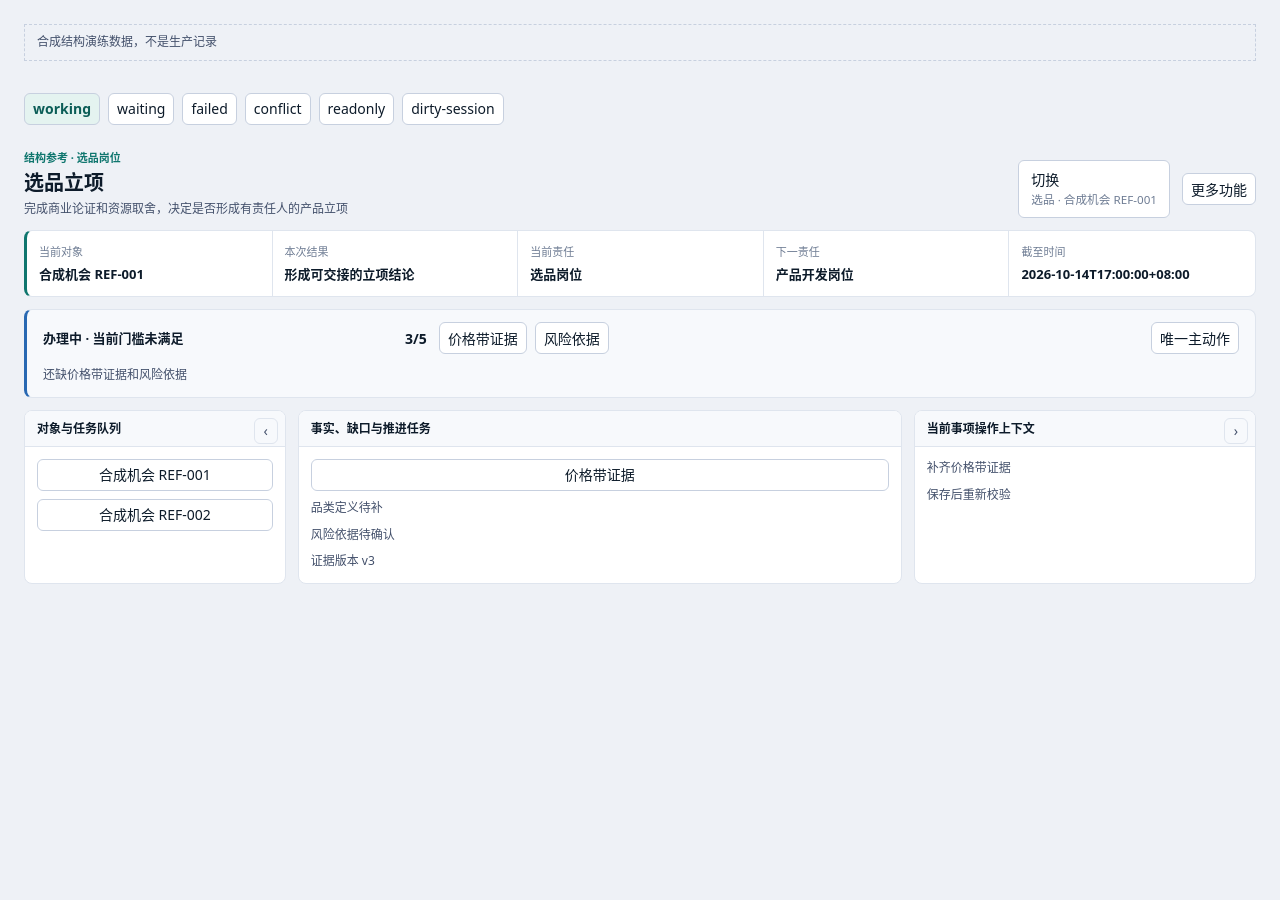
it: UniversalWorkbenchReferenceView › does not move the current session when dirty-session save fails
The image size is (1280, 900).
What coordinates should you click on to do the following:
click the button "dirty-session"
I would click on:
 (453, 109)
Its box is top-left (402, 93), bottom-right (504, 125).
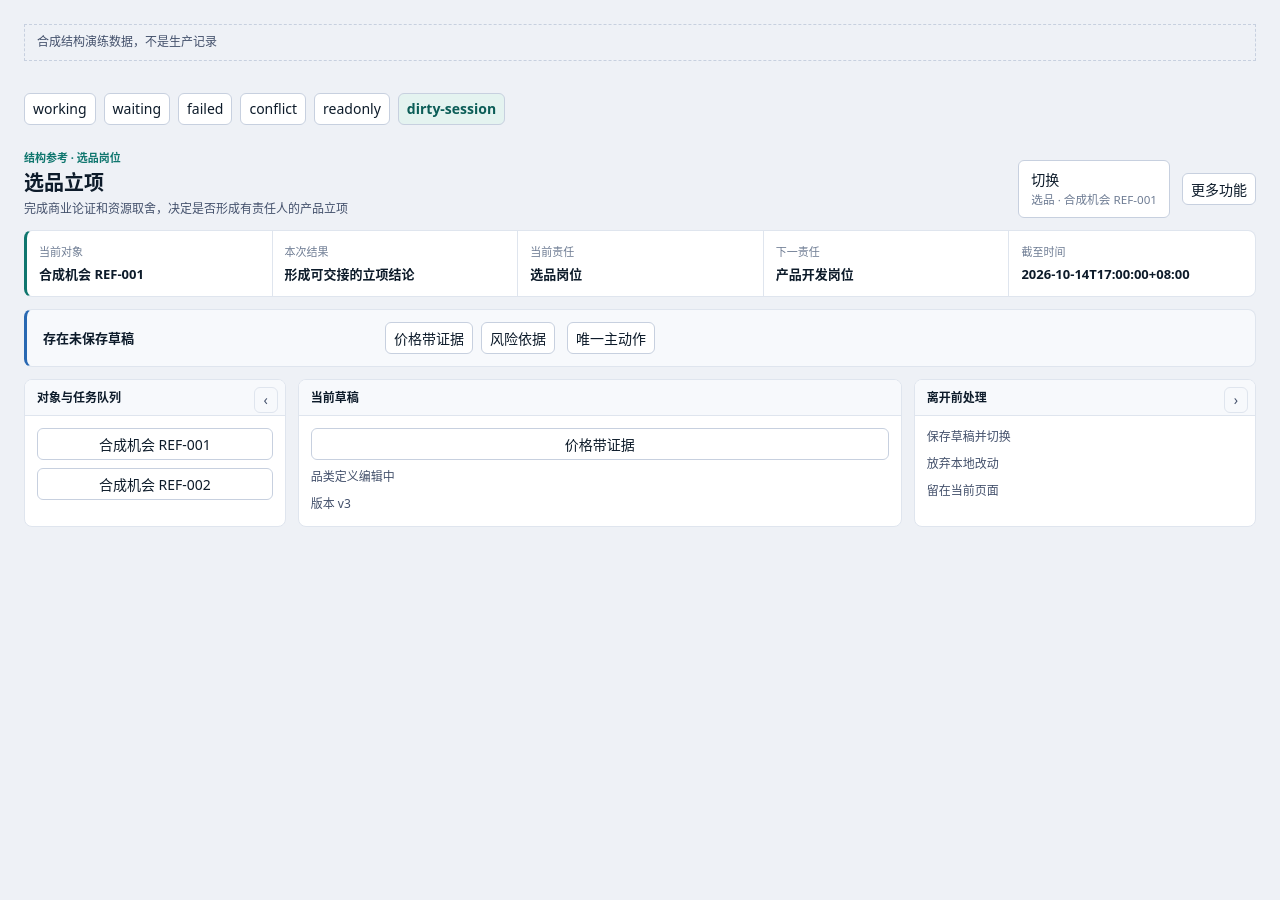
What coordinates should you click on to do the following:
click the button with aria-label "切换工作现场（结构参考）"
I would click on:
 (1094, 189)
Its box is top-left (1018, 160), bottom-right (1170, 218).
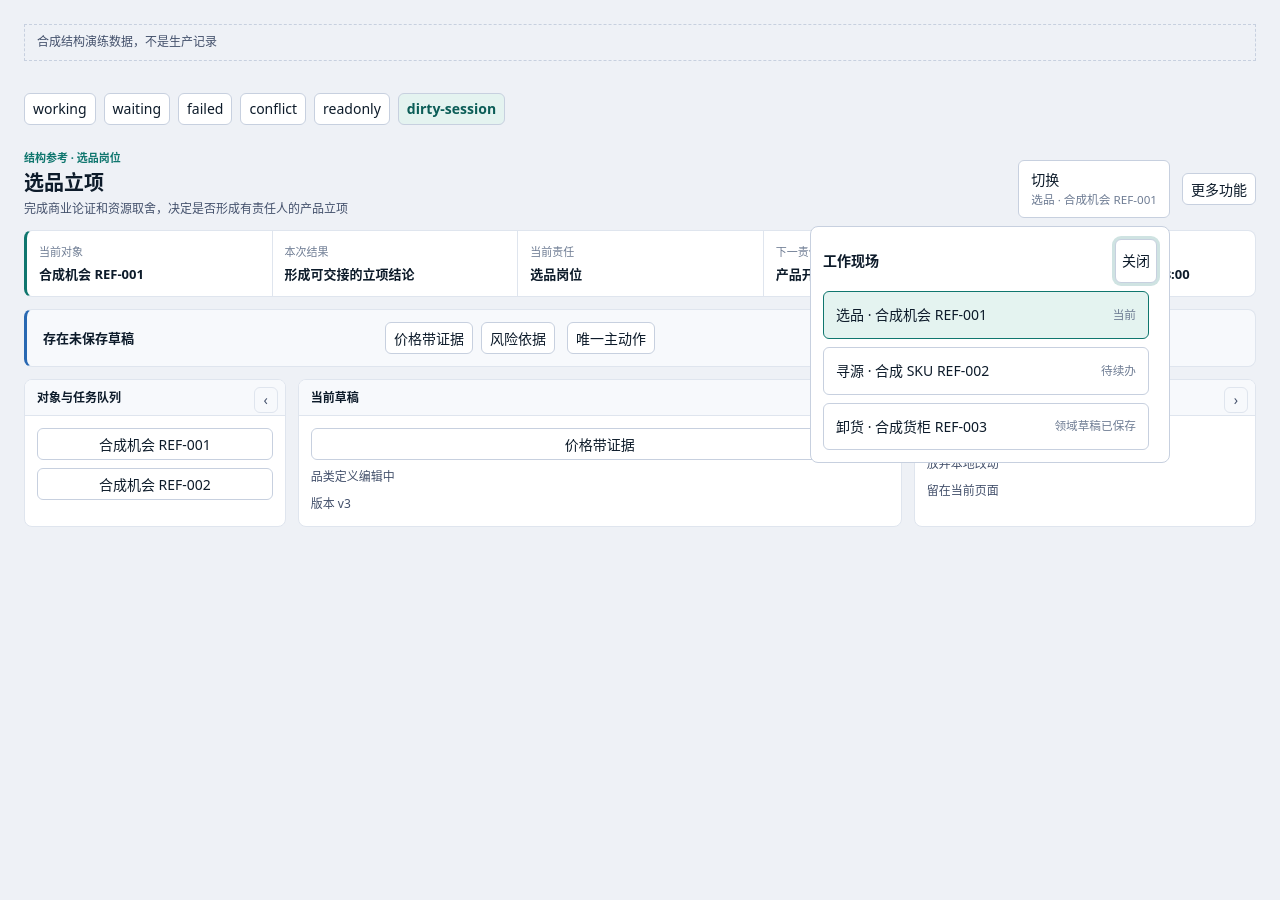
What coordinates should you click on to do the following:
click the button "寻源 · 合成 SKU REF-002 待续办"
I would click on:
 (986, 371)
Its box is top-left (823, 347), bottom-right (1149, 395).
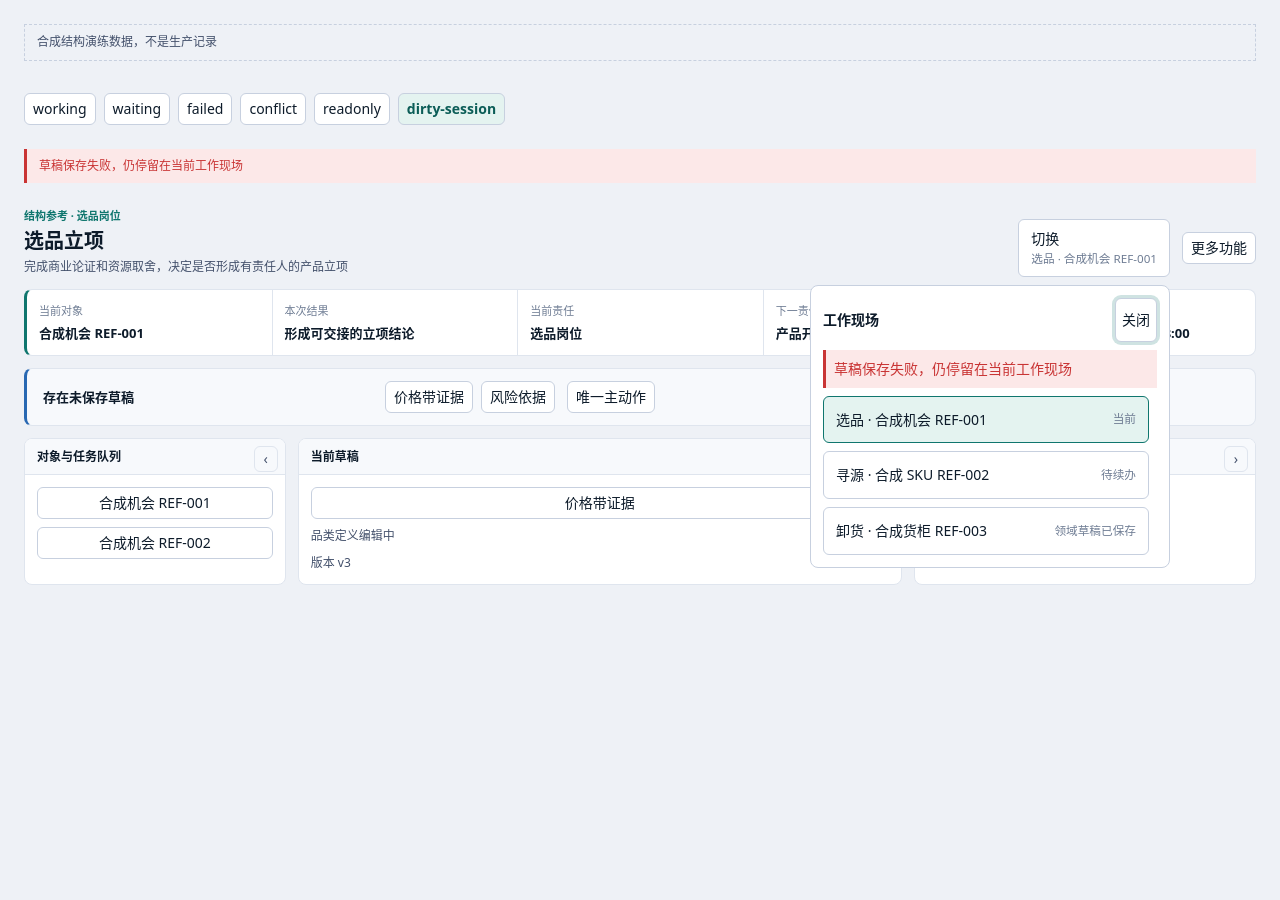
Now the button "选品 · 合成机会 REF-001 当前" is shown, box top-left (823, 396), bottom-right (1149, 443)
Now the text "草稿保存失败，仍停留在当前工作现场" is shown, box top-left (24, 149), bottom-right (1256, 183)
